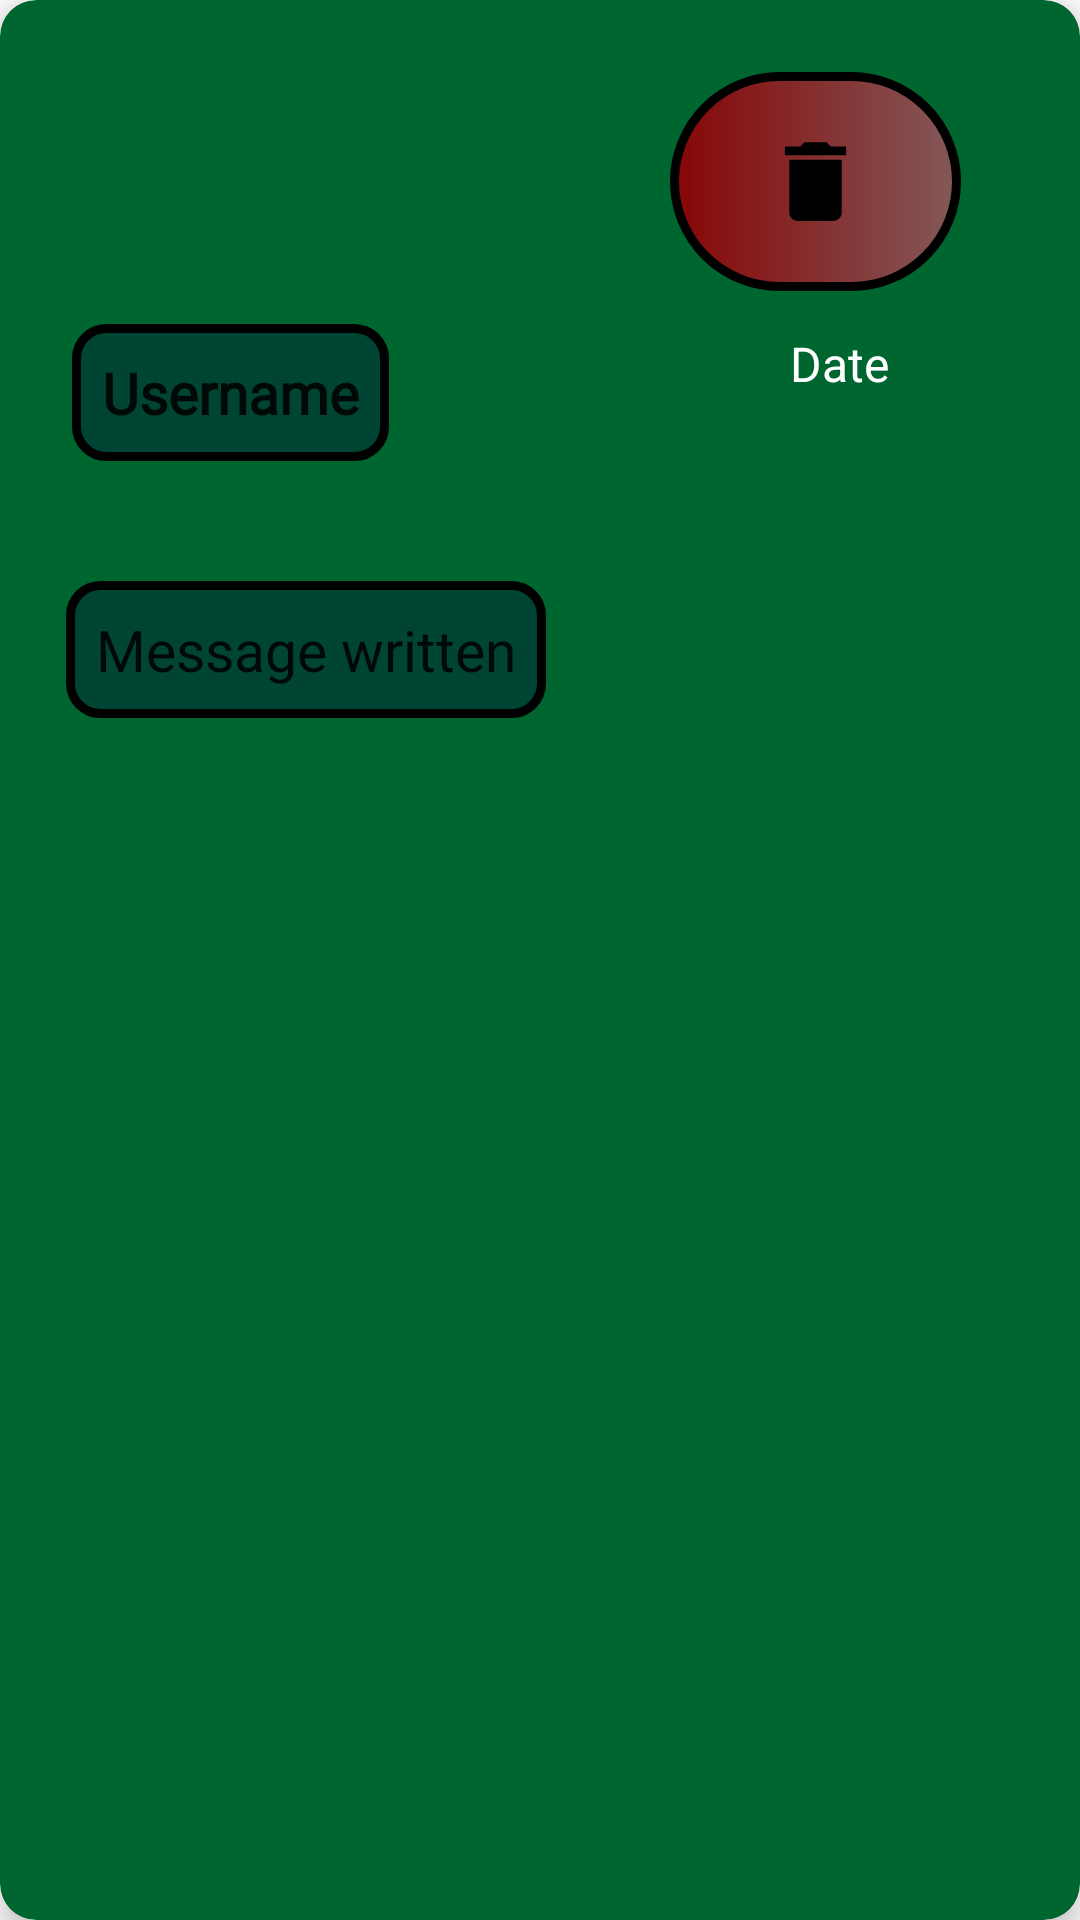

Where icons sit on this 1080*1920 app screen, as (left=x1, top=y1, right=x2, bottom=y2):
delete: (left=670, top=72, right=961, bottom=291)
